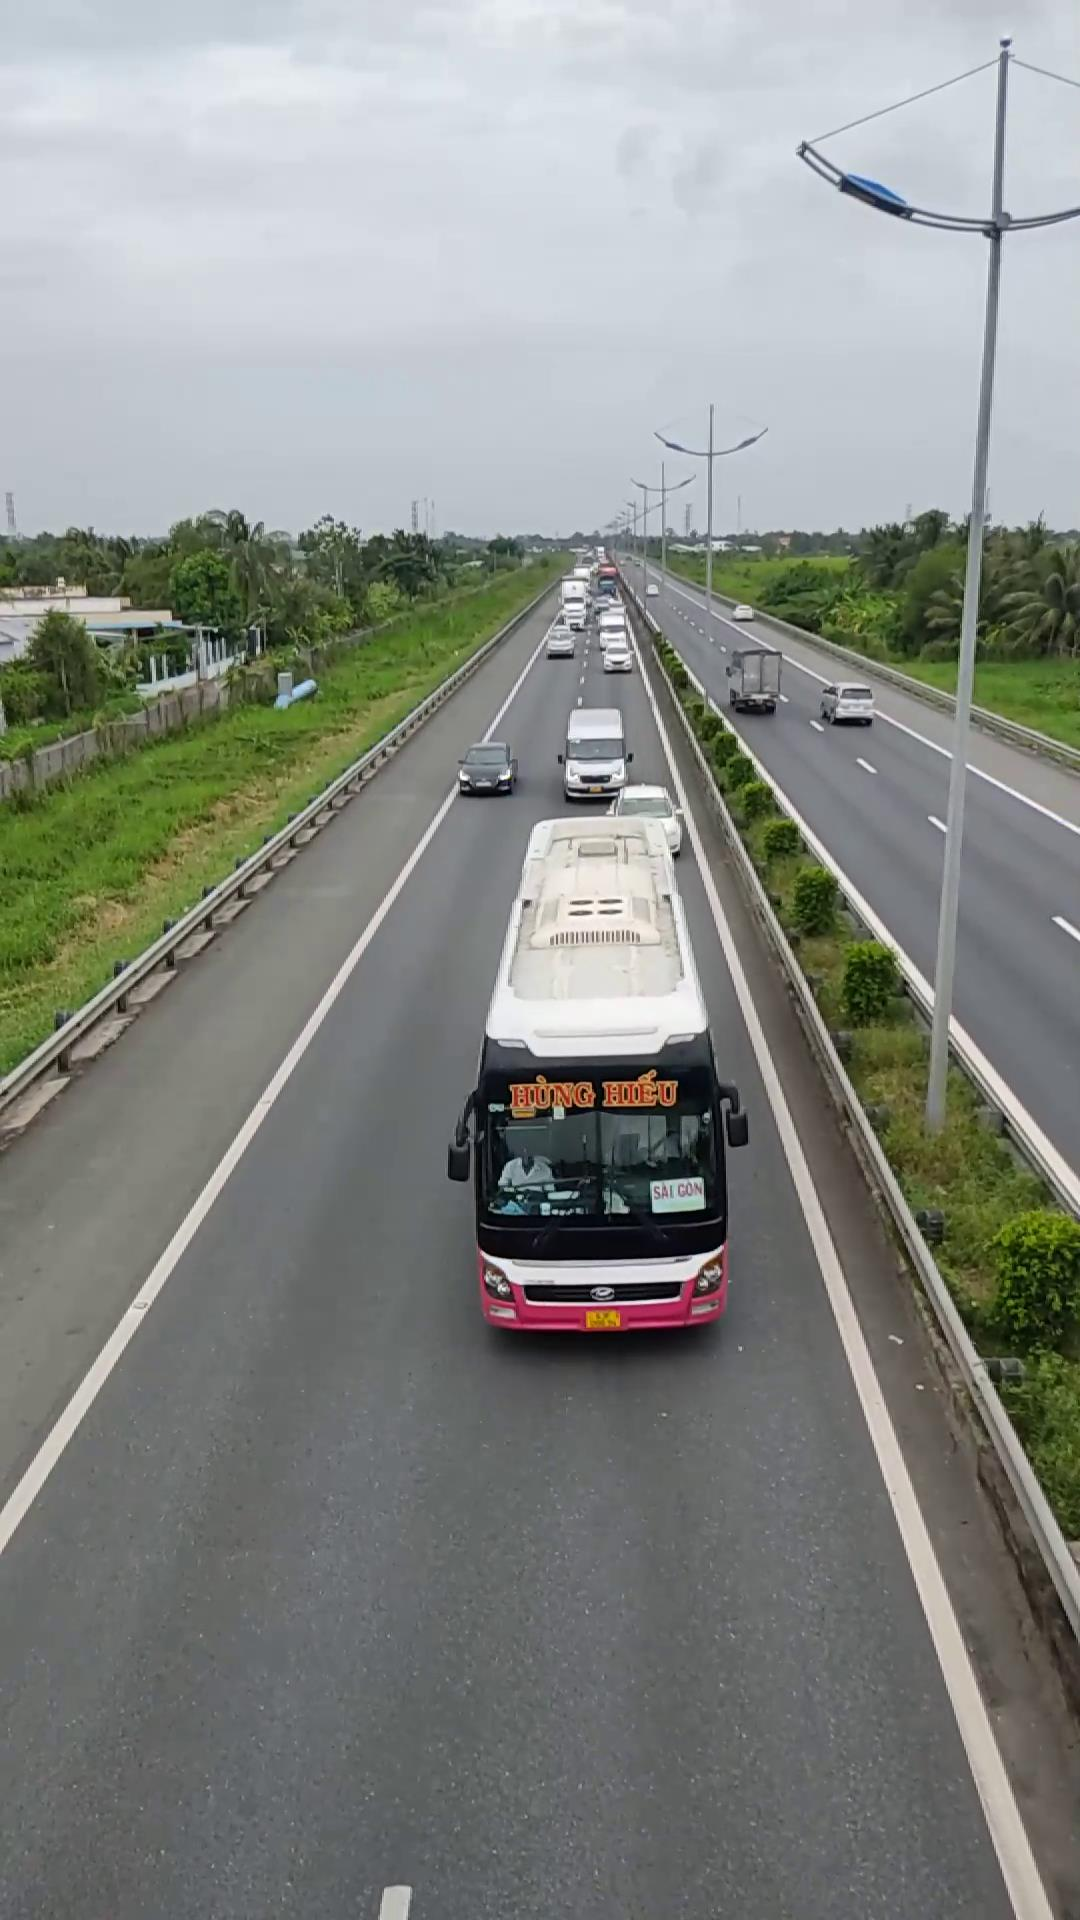bus: (448, 800, 745, 1336)
